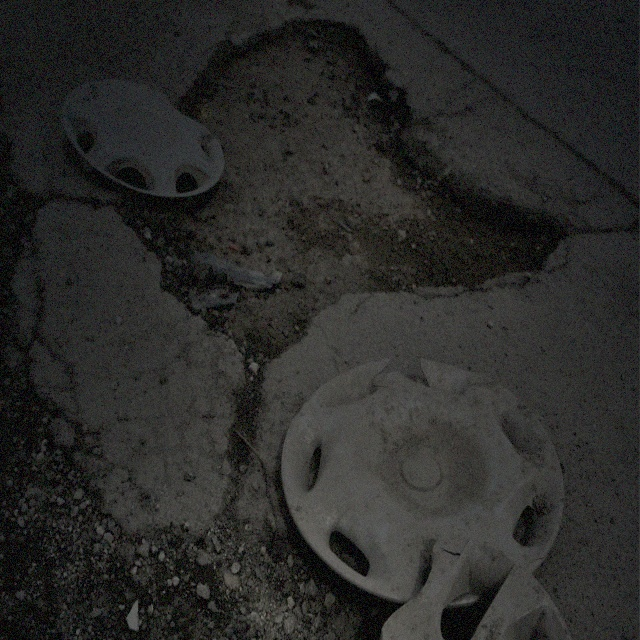pothole: (104, 10, 560, 380), (6, 342, 141, 610)
